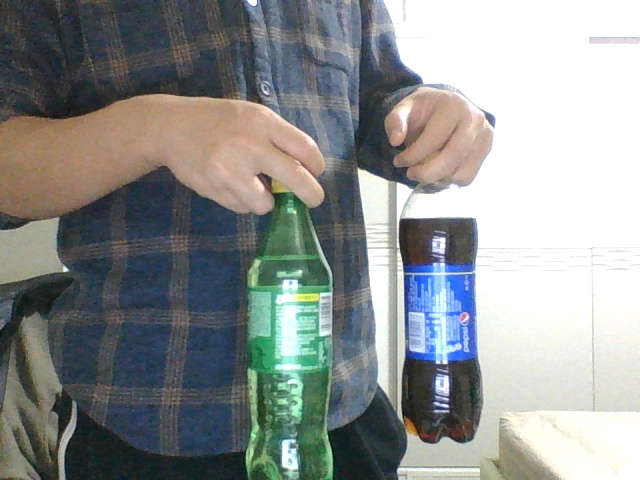Cola: (399, 154, 484, 442)
Sprite: (247, 173, 335, 478)
